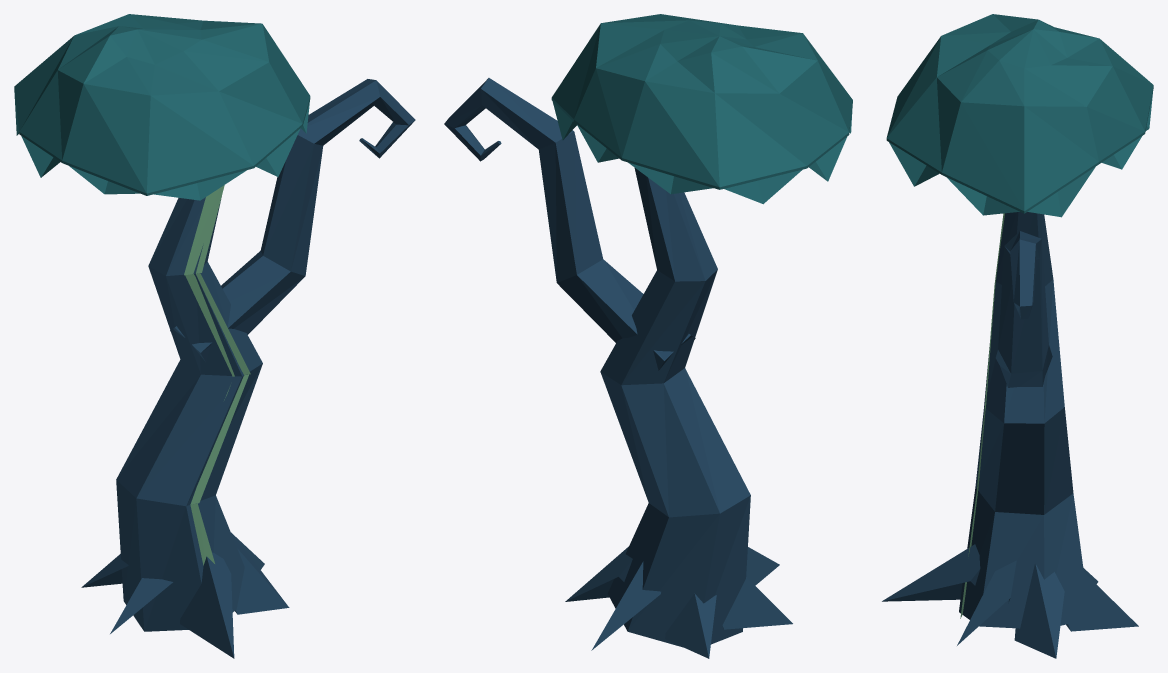
3 views of the same model, side by side, from view 1: azimuth 30°, elevation 25°; view 2: azimuth 150°, elevation 25°; view 3: azimuth 270°, elevation 25° (orthographic). The views are drawn at different scales.
Parts seen in each view (by area): view 1: Tree_Library_D; view 2: Tree_Library_D; view 3: Tree_Library_D.
Part boxes in pixels (x1=…): Tree_Library_D: x1=14, y1=14, x2=415, y2=658; Tree_Library_D: x1=444, y1=14, x2=852, y2=658; Tree_Library_D: x1=882, y1=14, x2=1153, y2=658.
Size of the model in its own units: 0.9372 by 1.42 by 0.6074.
